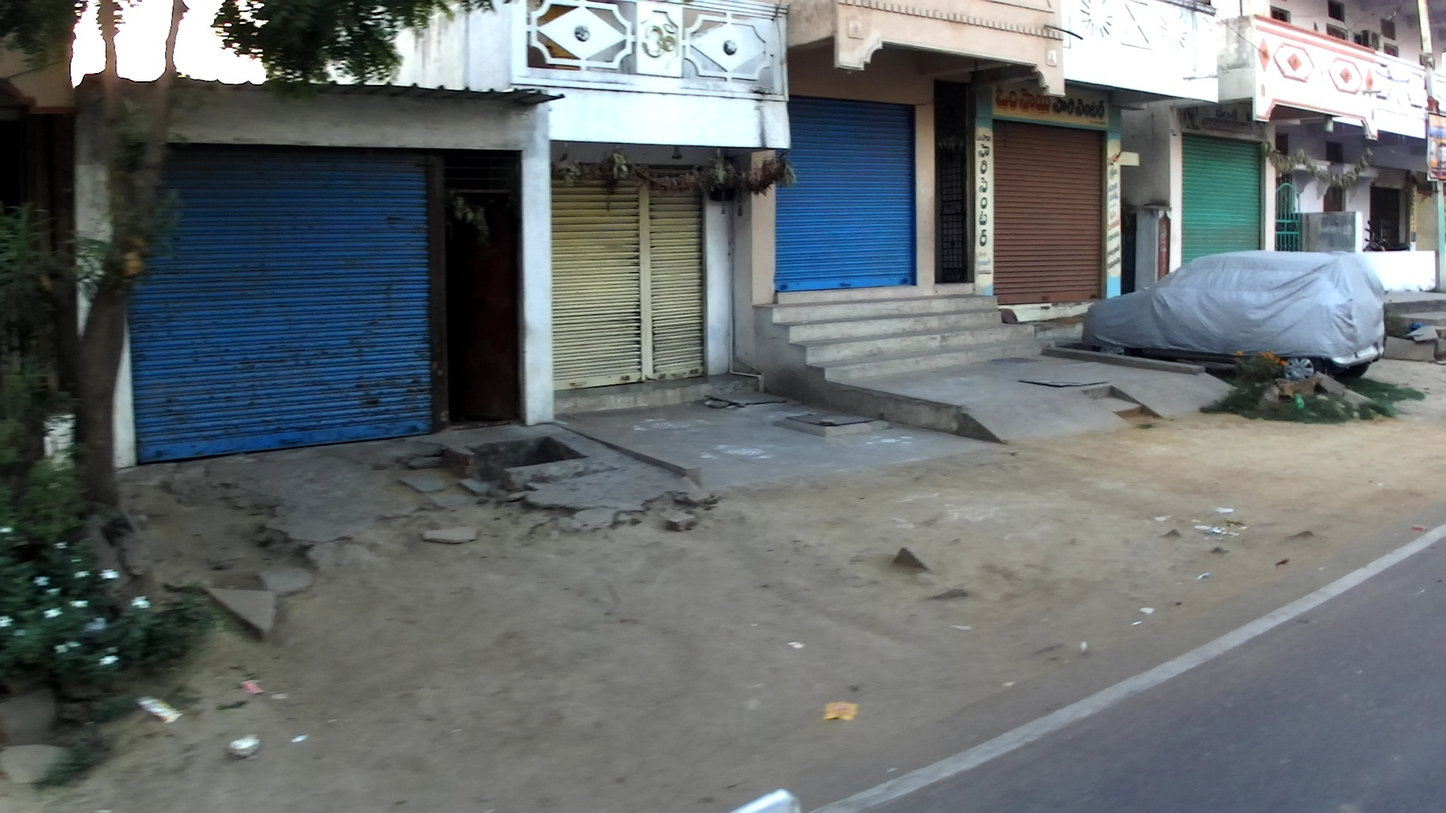car: (1083, 250, 1390, 387)
motorcycle: (1360, 220, 1411, 251)
